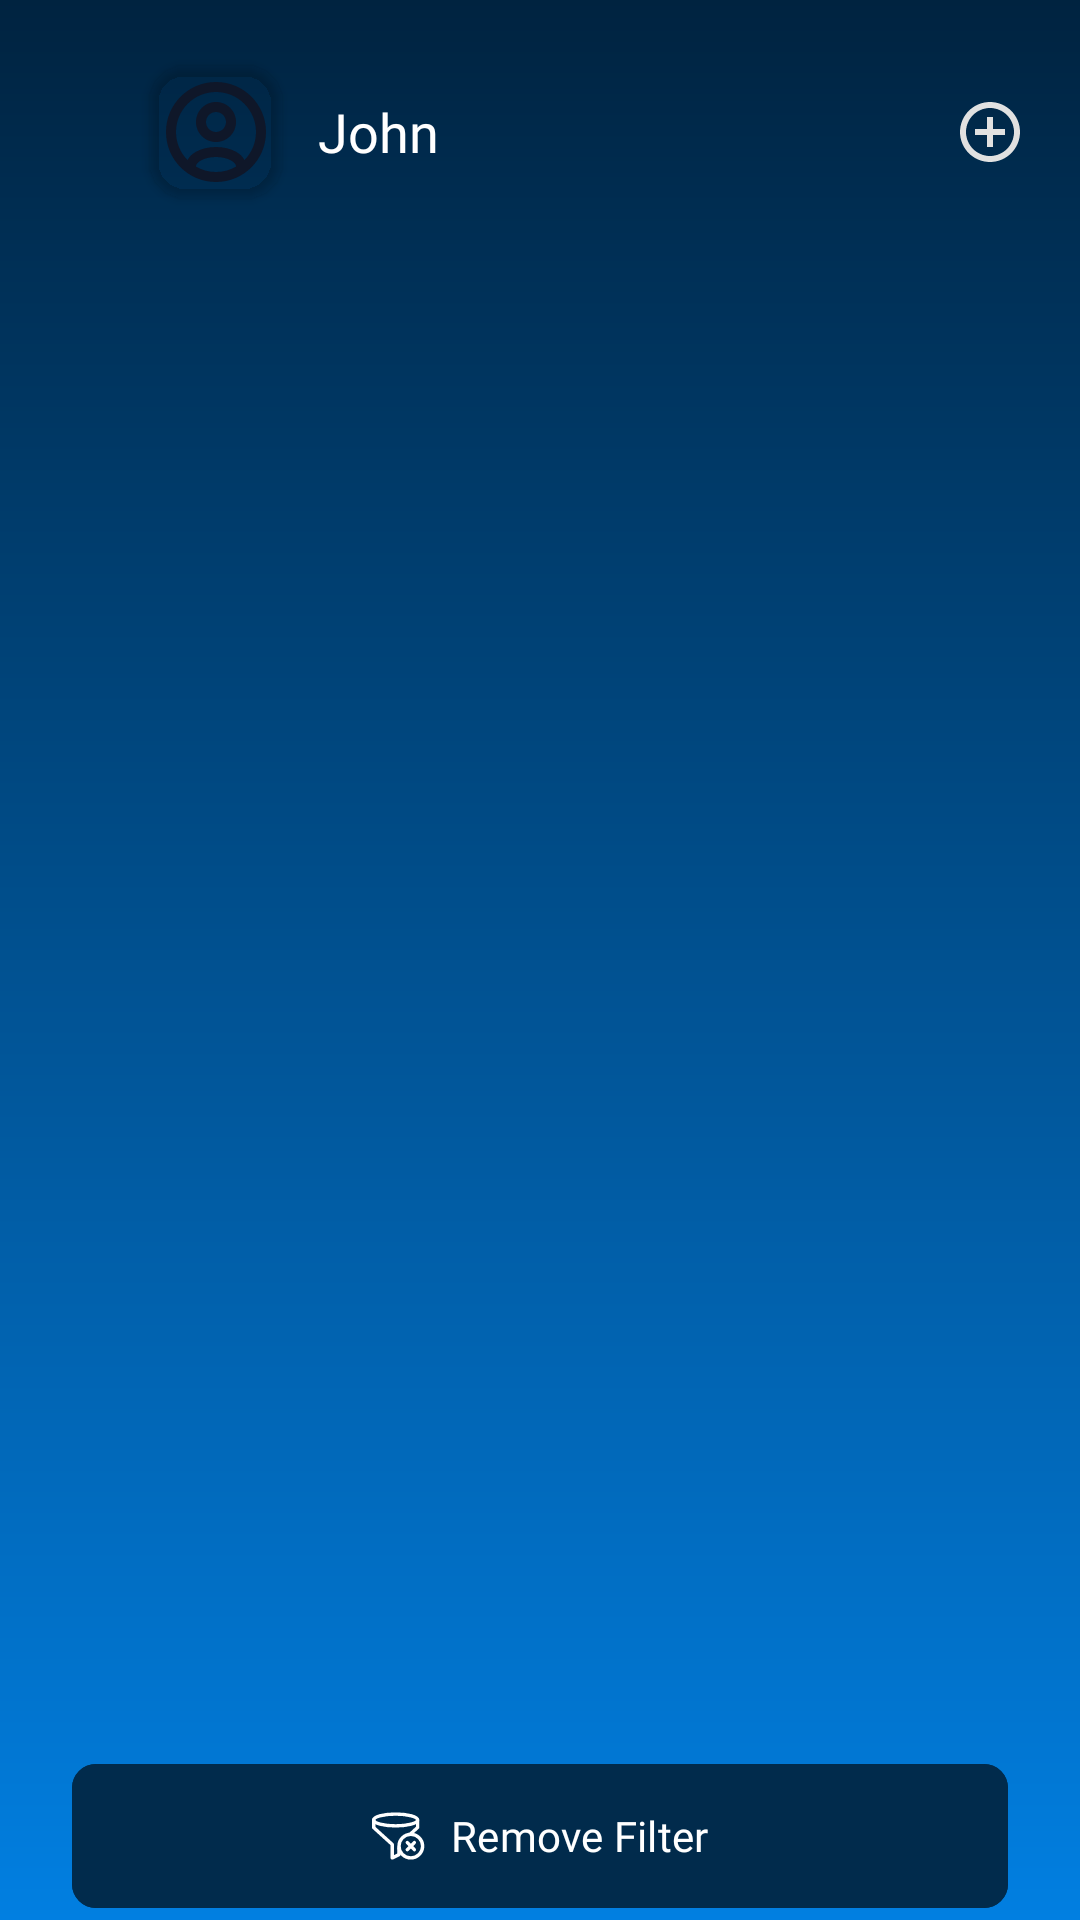

Point at icon controls on the screen. Image size 1080×1920, points as point (x, y).
add circle: point (990, 132)
